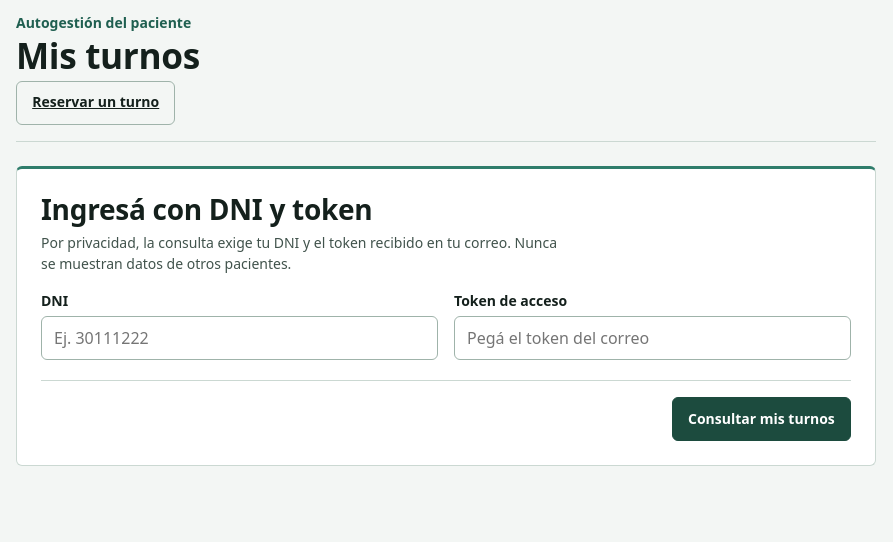
Test: MisTurnosPage › bloquea consulta solo con DNI sin token en UI y refleja rechazo 401/403 (P12)
The image size is (893, 542).
Later steps or results of the test are not shown.
Type "30111222" into the field labelled "DNI".
click(240, 338); type("30111222")  # box x1=41 y1=316 x2=438 y2=360
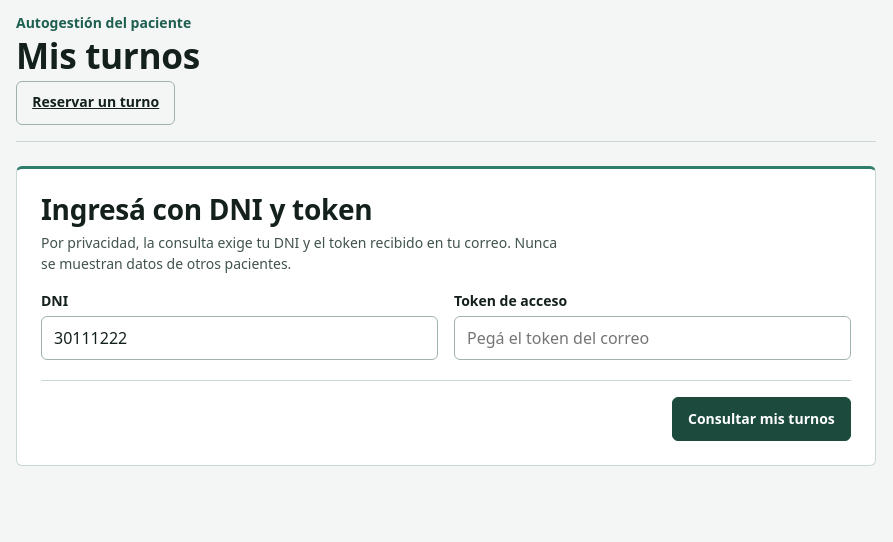
Click the button "Consultar mis turnos".
click(761, 419)  # box x1=672 y1=397 x2=851 y2=441
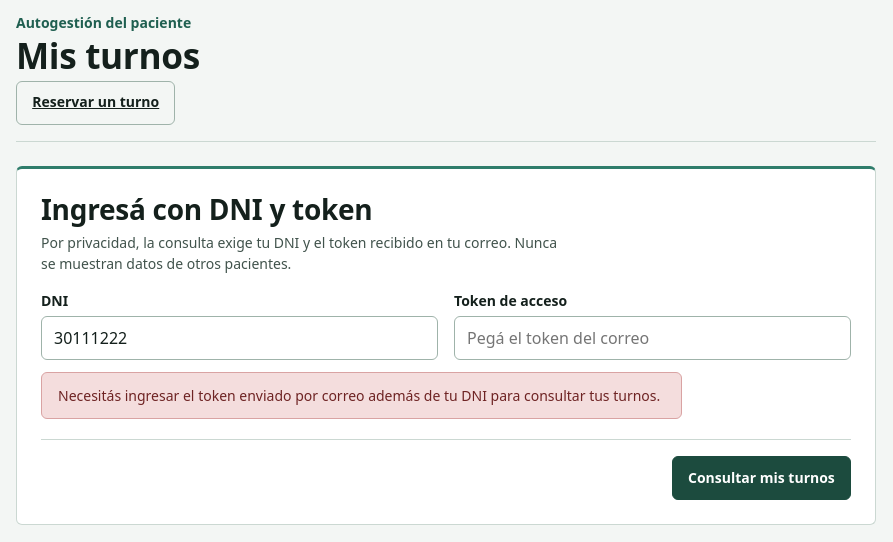
Expected: the message shows "token", x1=58 y1=386 x2=660 y2=405
